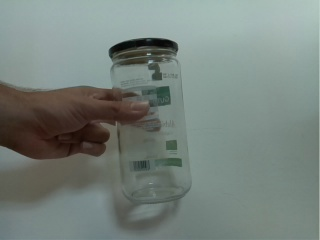pote cristal: (106, 36, 198, 208)
